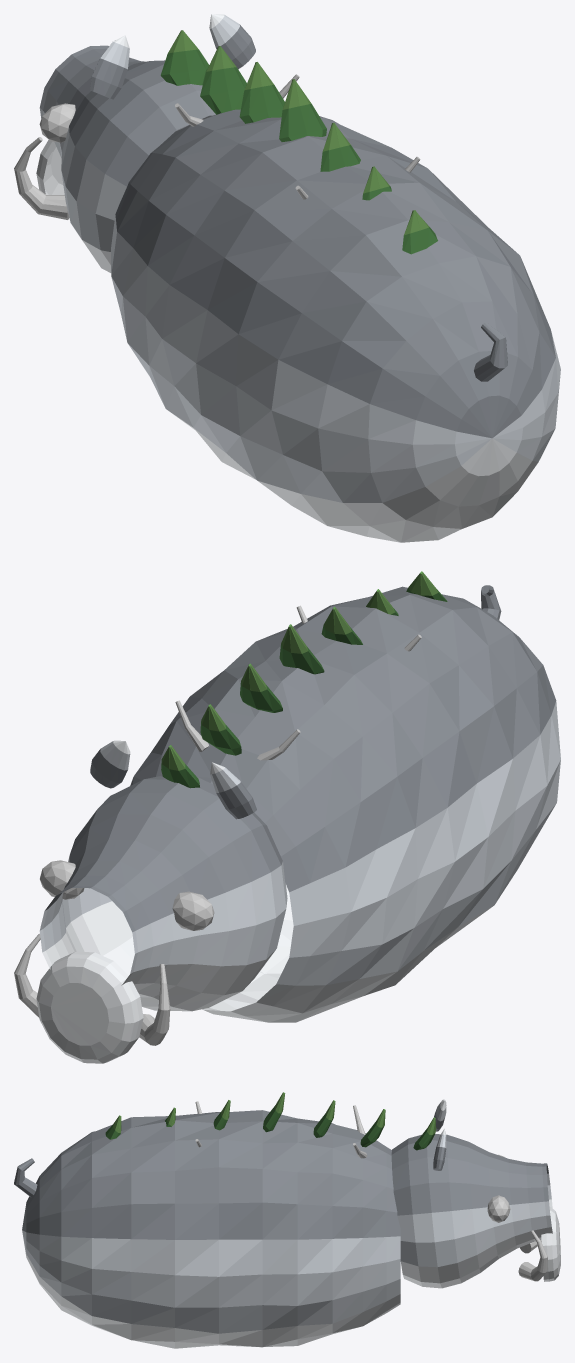
The model's file is CreatureBoar.obj.
The picture shows the model from 3 angles, top to bottom: view 1: azimuth 30°, elevation 25°; view 2: azimuth 150°, elevation 25°; view 3: azimuth 270°, elevation 25°; orthographic projection. The views are drawn at different scales.
Size of the model in its own units: 2.52 by 3.14 by 6.25.
